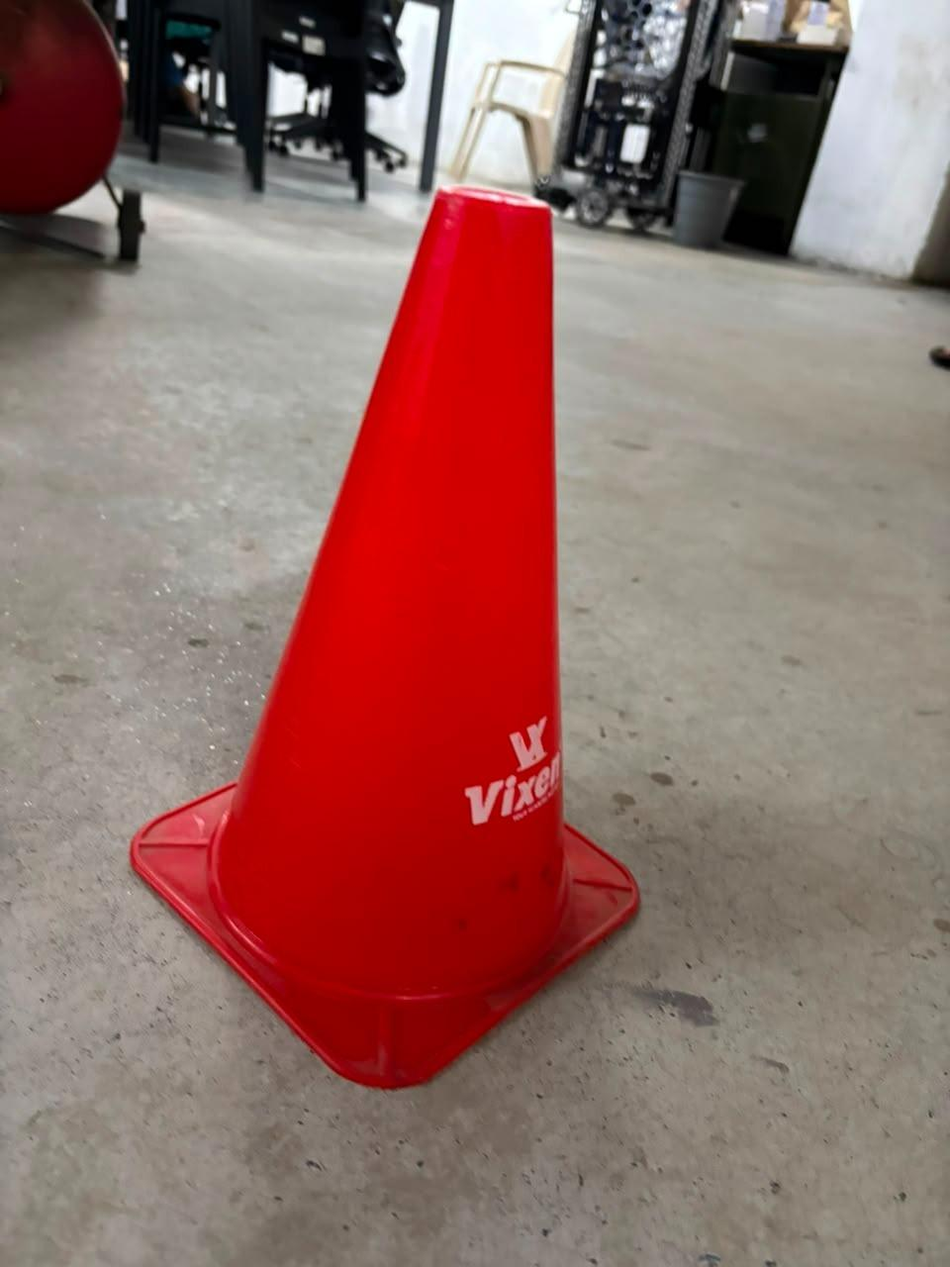0 cone: (131, 190, 637, 1090)
